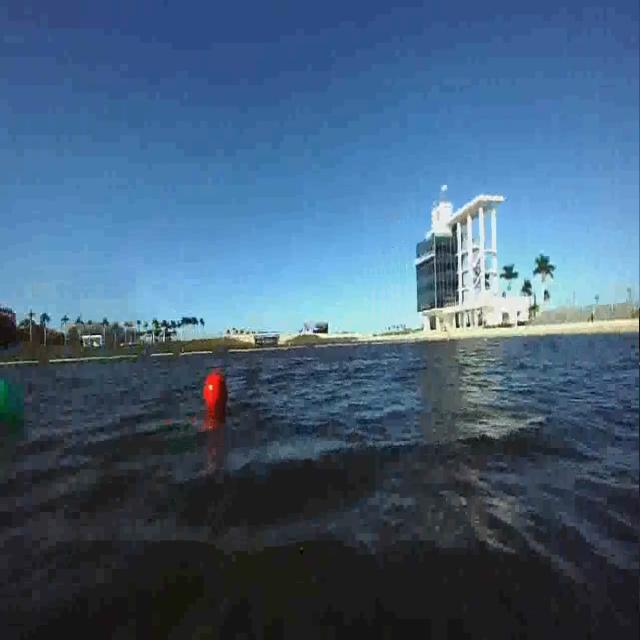green-buoy: (0, 371, 25, 451)
red-buoy: (205, 369, 228, 409)
